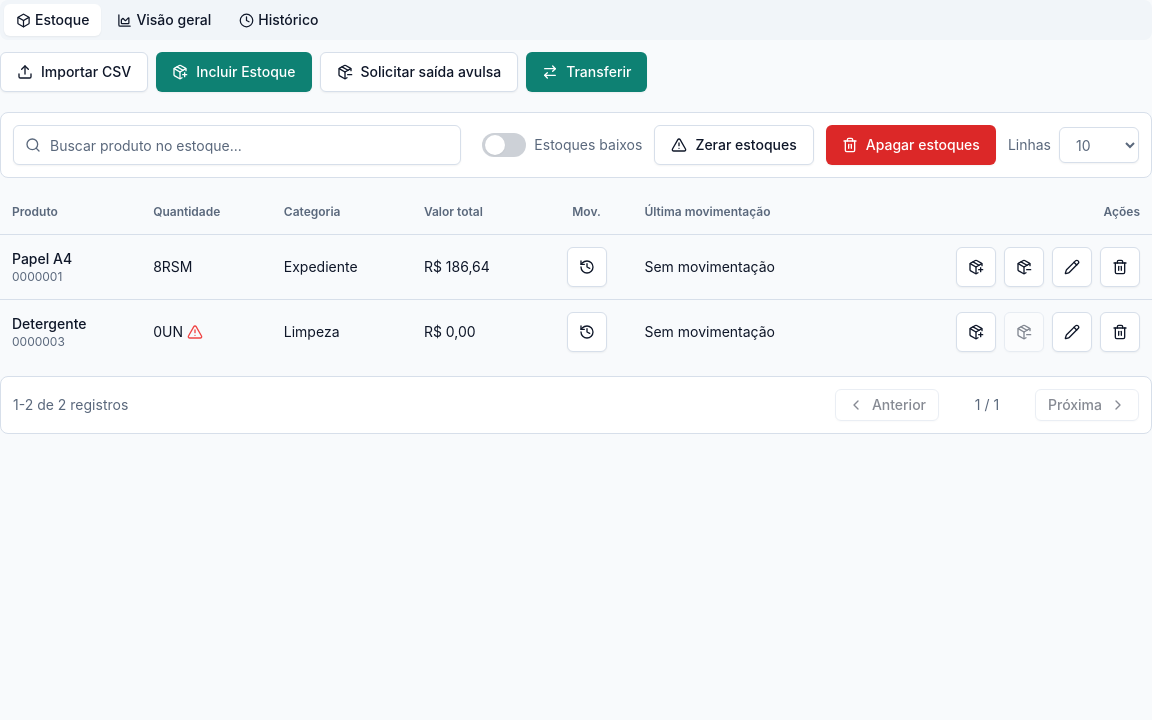
Test: WarehouseTabs › only offers products with available stock for transfers from the general warehouse
What coordinates should you click on to do the following:
click the button "Transferir"
I would click on:
 (587, 72)
Its box is [526,52,648,92].
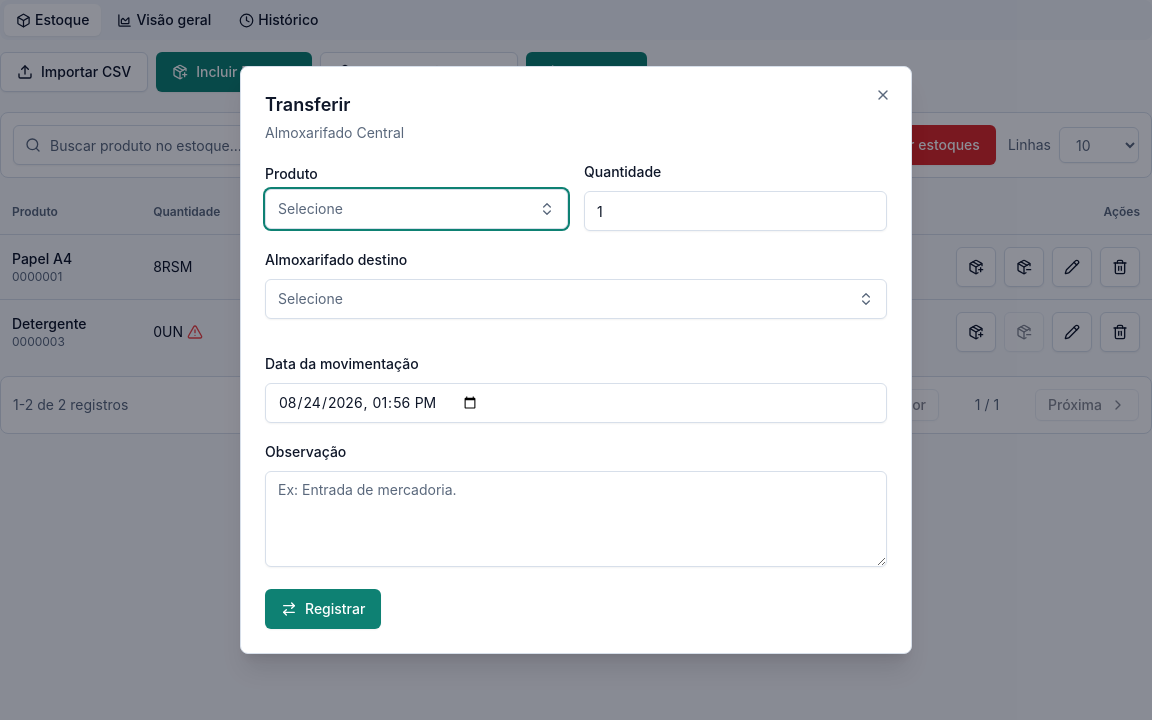
What coordinates should you click on to do the following:
click the button with aria-label "Produto"
I would click on:
 (310, 208)
Its box is [265,189,568,229].
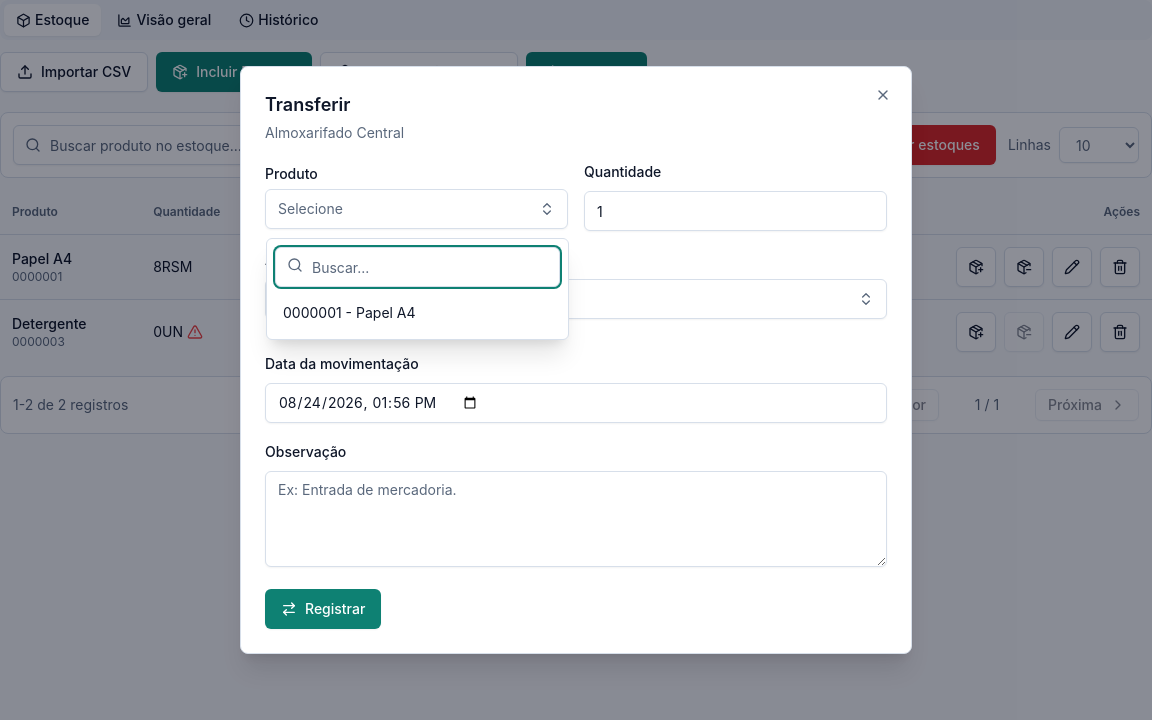
Now the text "0000001 - Papel A4" is shown, box [283,303,416,323]
